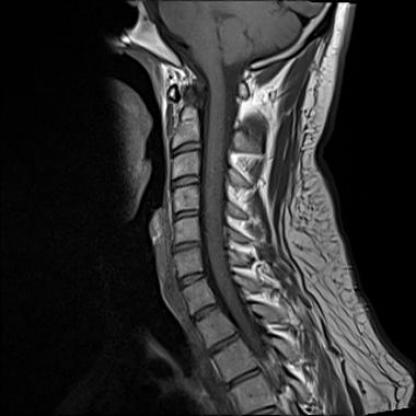Disc Bulgerotation: (172, 235, 203, 255)
